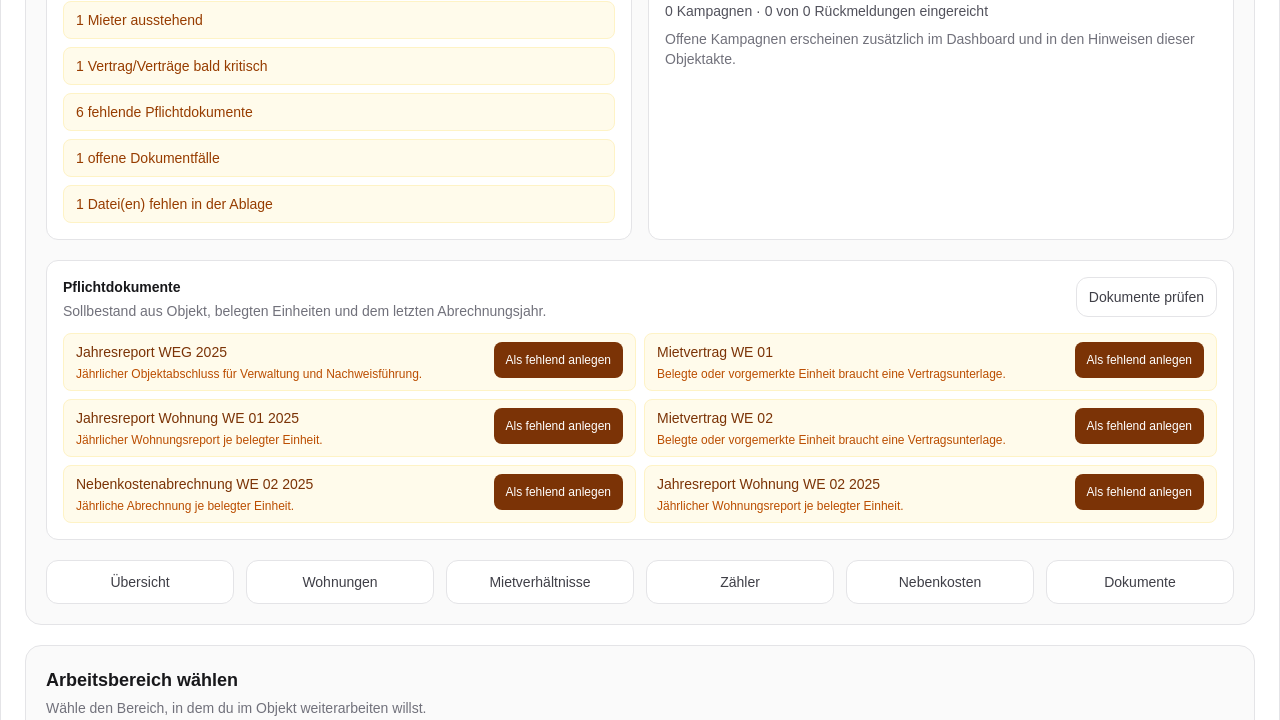
Test: ObjectDetail › creates a missing document placeholder from a required document gap
(page scrolled)
What coordinates should you click on to do the following:
click the button "Als fehlend anlegen" in the row of "Jahresreport WEG 2025"
I would click on:
 (558, 360)
Its box is [494,342,623,378].
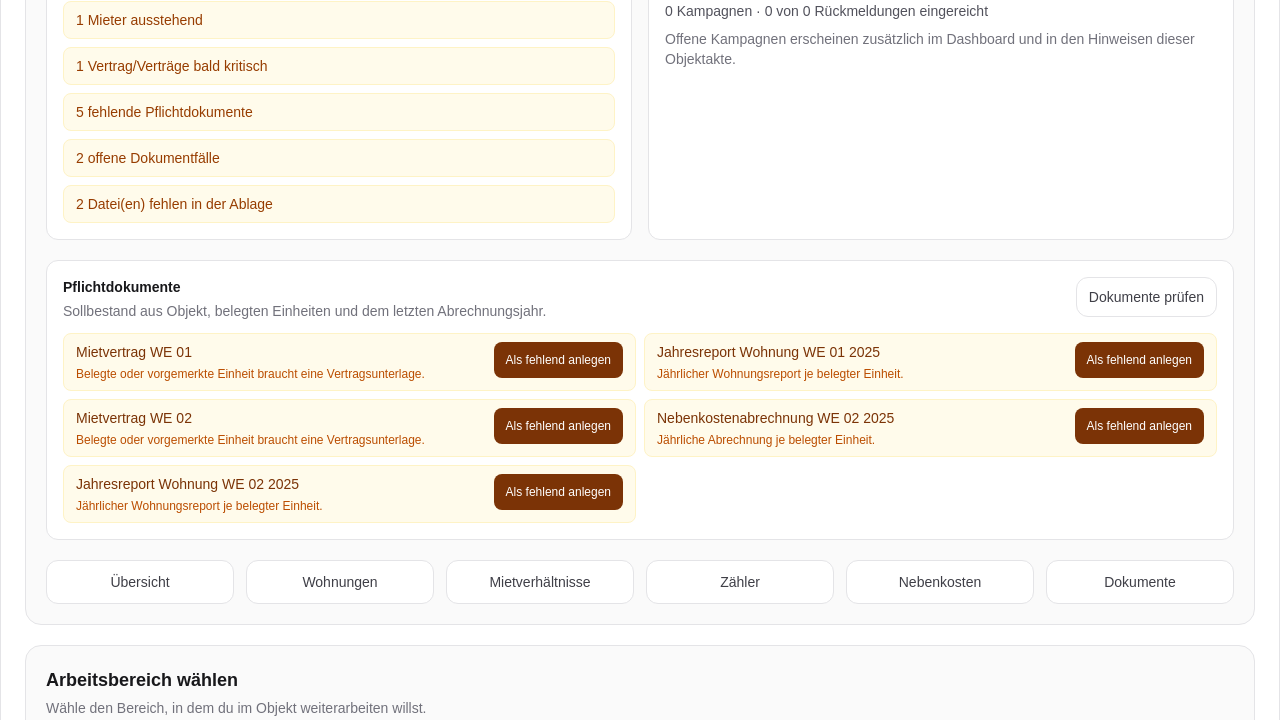
Result: the text "5 fehlende Pflichtdokumente" is shown at [63,93,615,131]
